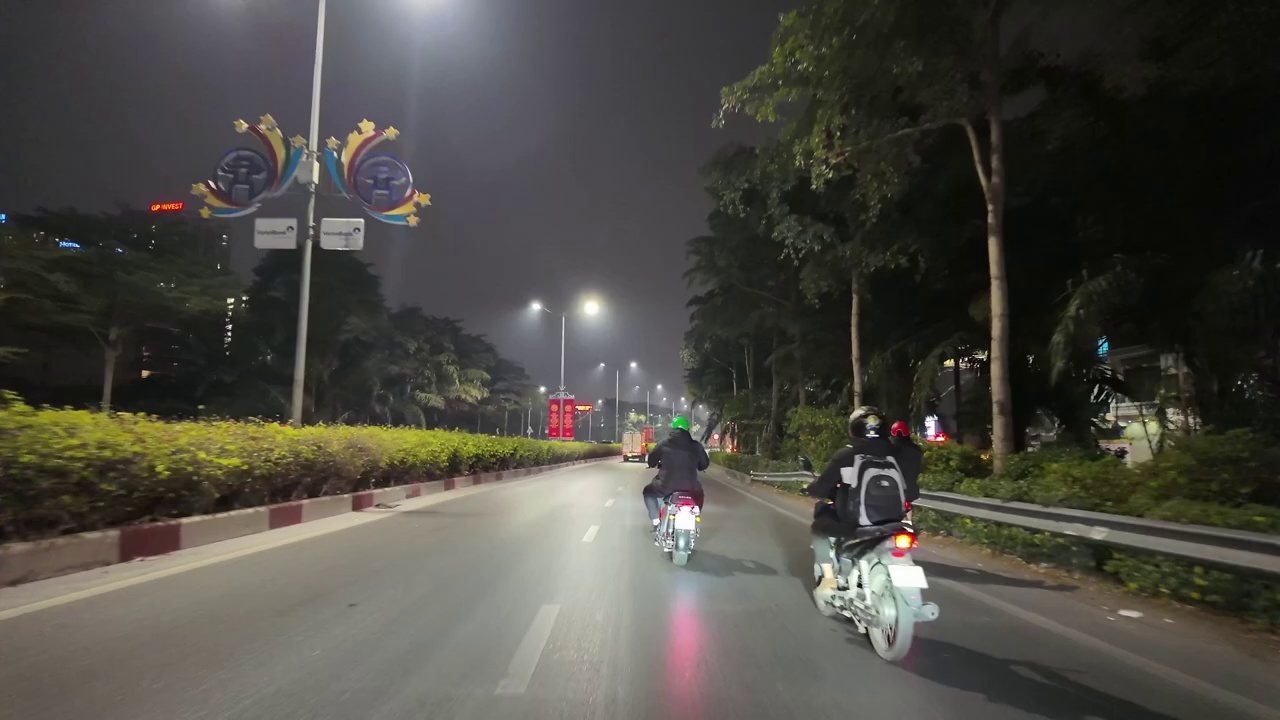acesa: (575, 292, 606, 322), (521, 298, 547, 323)
